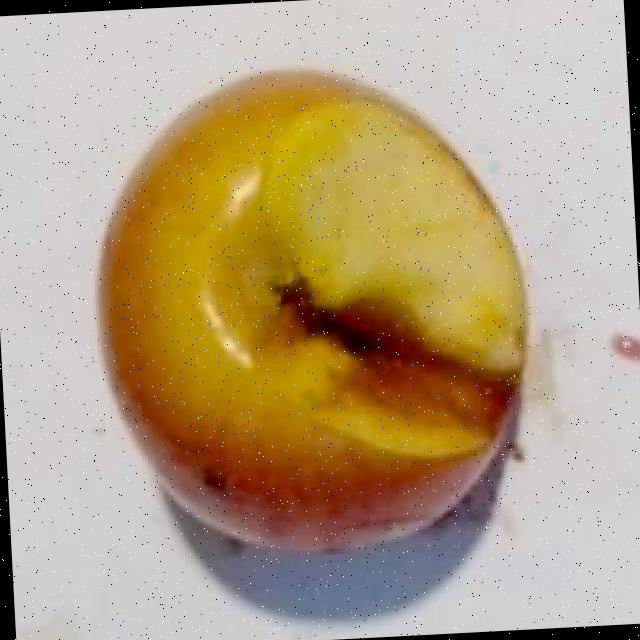rotten apple: (47, 34, 584, 640)
